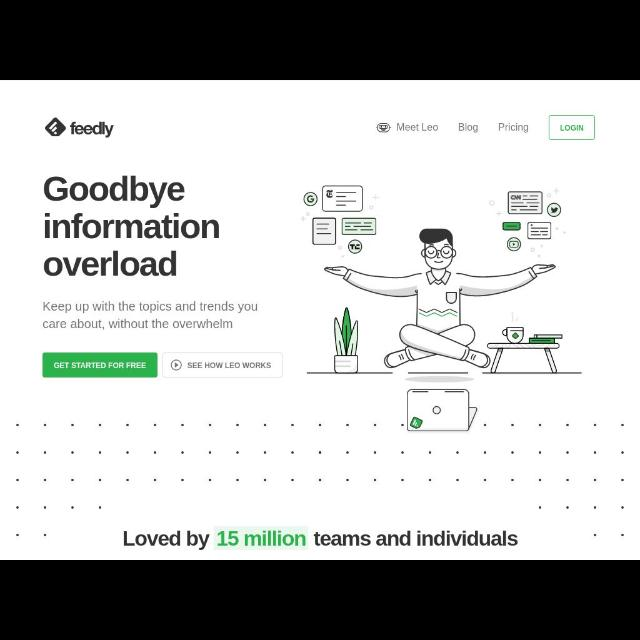icon: (376, 124, 392, 132), (170, 360, 182, 370)
image: (294, 176, 594, 440), (44, 115, 116, 138)
multitab: (375, 120, 531, 136)
text: (41, 176, 222, 282), (121, 530, 518, 552), (39, 300, 260, 332), (54, 362, 148, 371), (395, 121, 439, 133), (186, 363, 272, 369), (496, 122, 530, 134), (457, 121, 479, 135), (559, 123, 585, 131)
textbutton: (162, 352, 284, 378), (41, 352, 159, 378), (547, 112, 597, 142)
